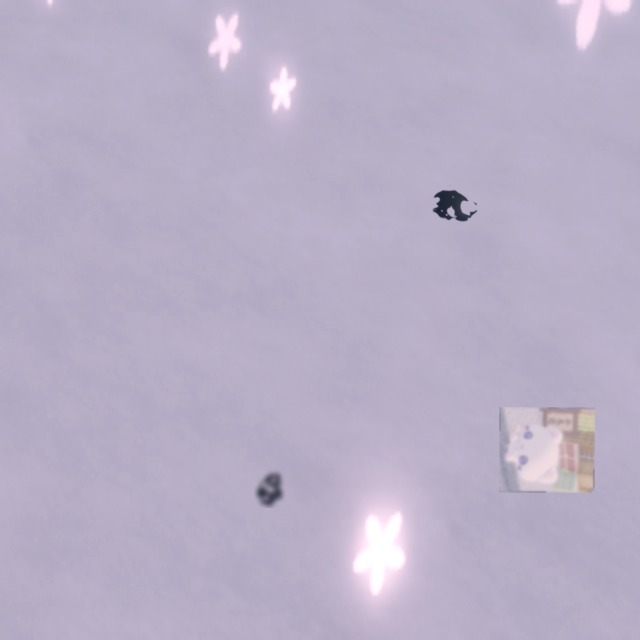urso_branco: (499, 407, 595, 493)
urso_preto: (419, 175, 489, 237), (254, 468, 289, 508)
